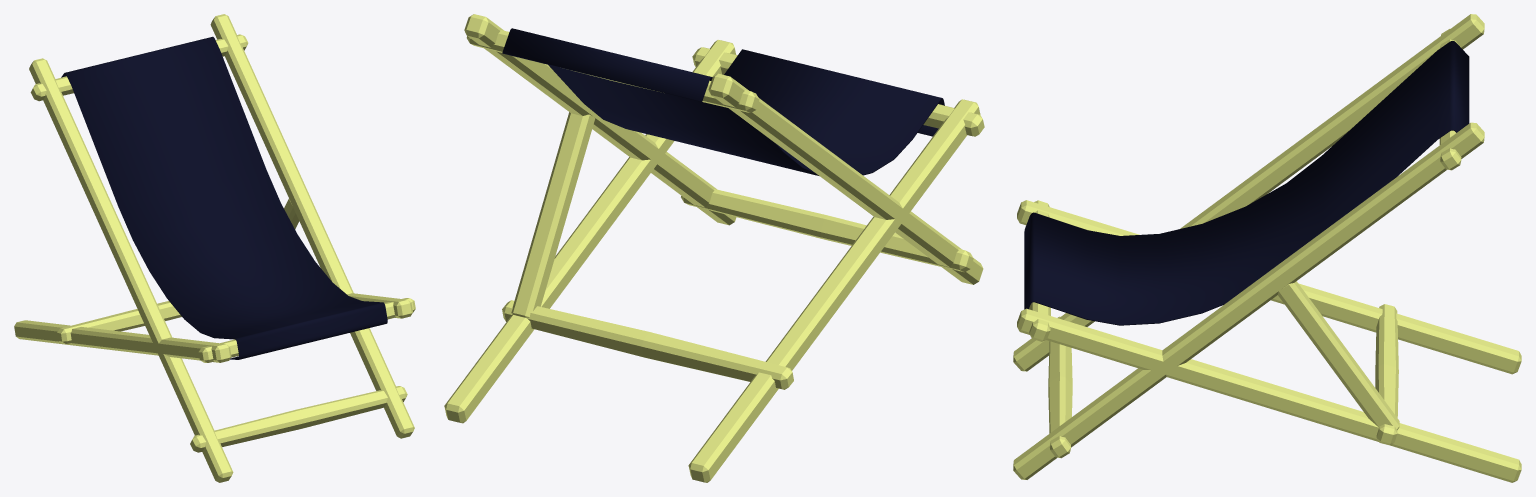
The model's file is beachChair.fbx.
3 renders of one model, left to right at view 1: azimuth 30°, elevation 25°; view 2: azimuth 150°, elevation 25°; view 3: azimuth 270°, elevation 25°, orthographic. The views are drawn at different scales.
Visible parts, largest first — view 1: 平面, Vert.005, Vert.006, Vert.003, Vert.001, Vert.002, Vert.004; view 2: 平面, Vert.006, Vert.005, Vert.001, Vert.007, Vert.003, Vert.004, Vert.002; view 3: 平面, Vert.005, Vert.006, Vert.007, Vert.001, Vert.003, Vert.004, Vert.002.
Part boxes in pixels (x1=…): 平面: x1=61, y1=36, x2=387, y2=359; Vert.005: x1=29, y1=14, x2=414, y2=482; Vert.006: x1=14, y1=293, x2=412, y2=362; Vert.003: x1=190, y1=386, x2=407, y2=452; Vert.001: x1=57, y1=301, x2=181, y2=343; Vert.002: x1=30, y1=34, x2=248, y2=101; Vert.004: x1=198, y1=298, x2=415, y2=362; 平面: x1=502, y1=28, x2=944, y2=175; Vert.006: x1=444, y1=40, x2=980, y2=482; Vert.005: x1=464, y1=14, x2=983, y2=284; Vert.001: x1=502, y1=300, x2=793, y2=389; Vert.007: x1=511, y1=112, x2=595, y2=318; Vert.003: x1=681, y1=189, x2=973, y2=272; Vert.004: x1=692, y1=47, x2=984, y2=136; Vert.002: x1=466, y1=30, x2=759, y2=112; 平面: x1=1024, y1=41, x2=1469, y2=325; Vert.005: x1=1013, y1=14, x2=1484, y2=479; Vert.006: x1=1017, y1=200, x2=1521, y2=482; Vert.007: x1=1278, y1=281, x2=1399, y2=429; Vert.001: x1=1375, y1=304, x2=1398, y2=445; Vert.003: x1=1048, y1=316, x2=1072, y2=458; Vert.004: x1=1029, y1=200, x2=1050, y2=341; Vert.002: x1=1439, y1=28, x2=1461, y2=170.
Bounding box in the file's own units: 60.12 × 78.5 × 102.
